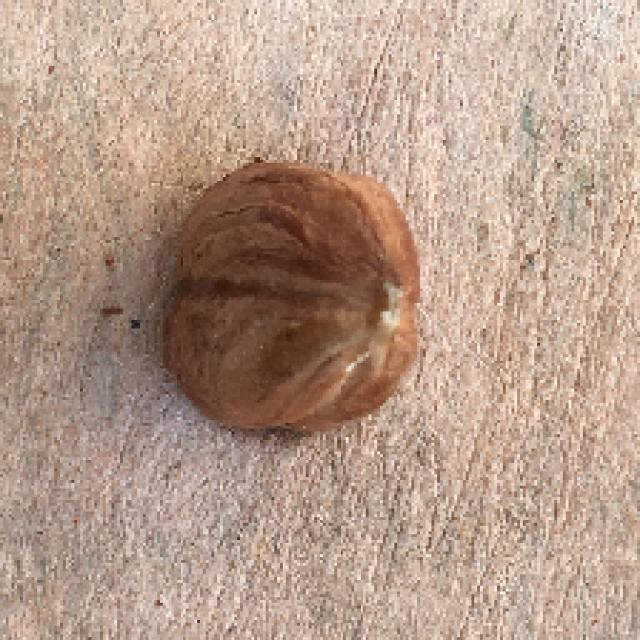hazelnut: (156, 143, 428, 451)
